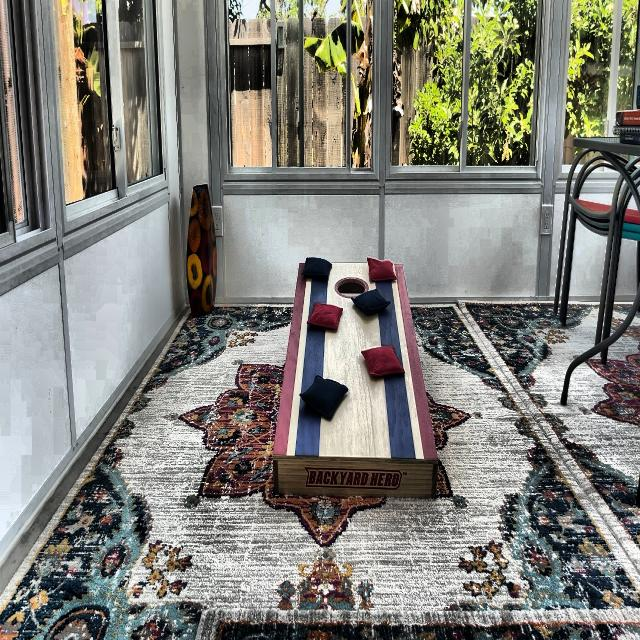blue-bean-bag: (300, 375, 348, 419), (351, 288, 390, 312), (302, 257, 332, 278)
board: (294, 264, 411, 456)
hole: (334, 275, 369, 299)
red-bean-bag: (360, 346, 405, 378), (307, 301, 343, 331), (367, 257, 396, 281)
